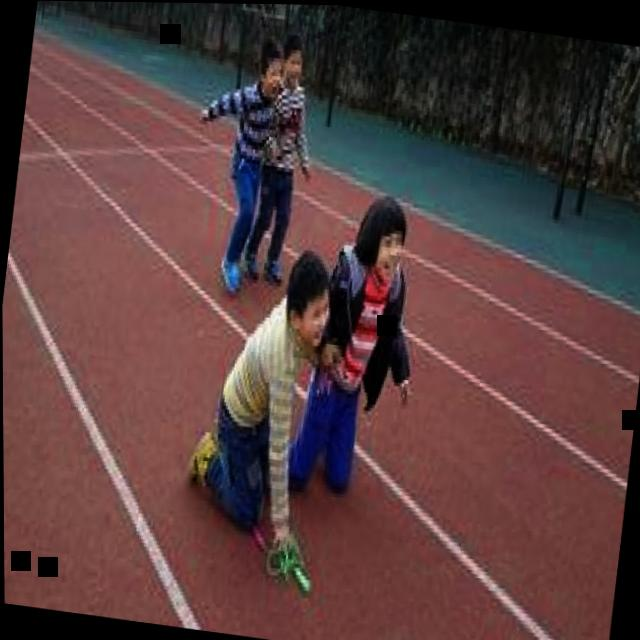Fall-Detected: (285, 161, 445, 513)
